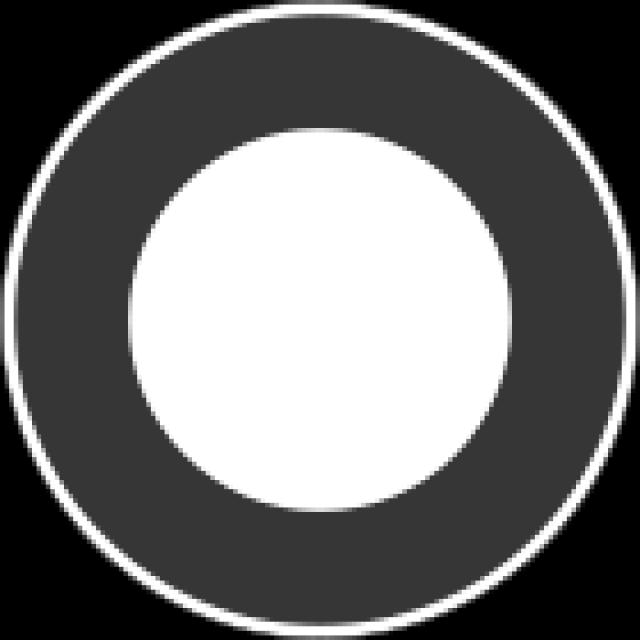end_forbidden: (3, 0, 640, 640)
